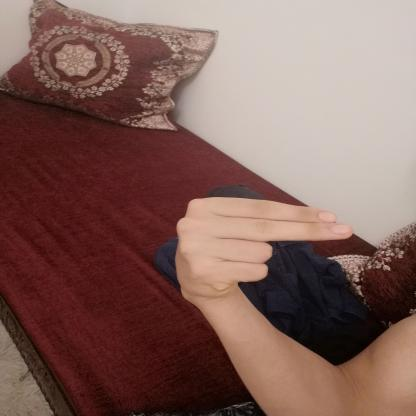AYN: (160, 186, 368, 308)
